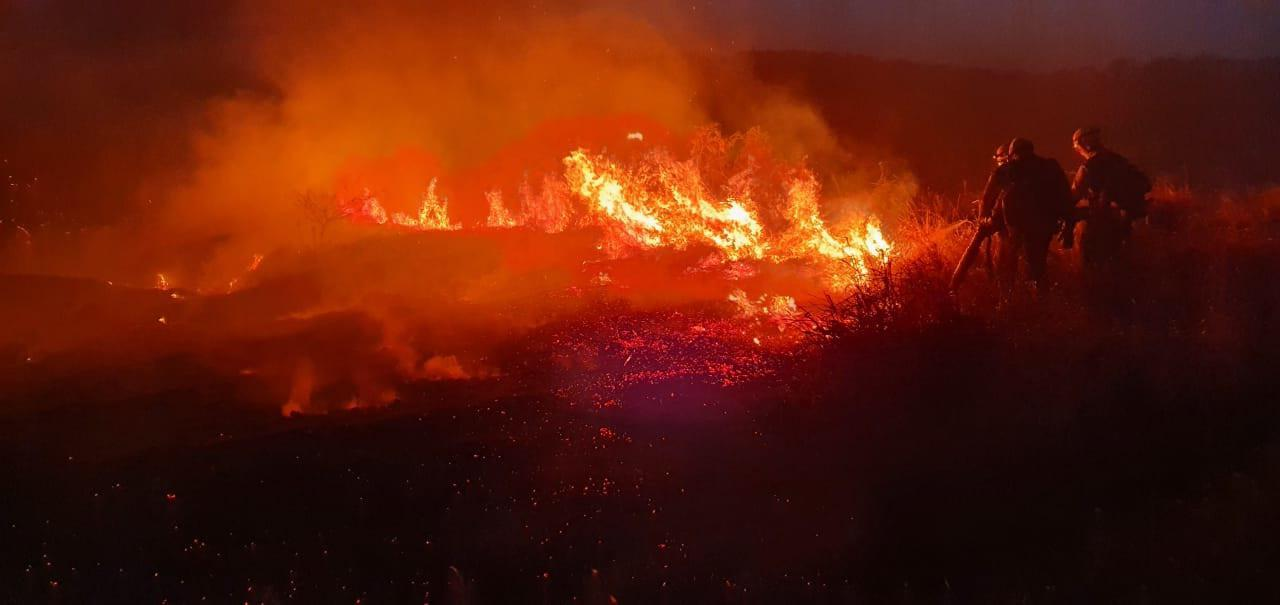Fire: (360, 170, 912, 276), (730, 284, 806, 323), (156, 270, 170, 293)
